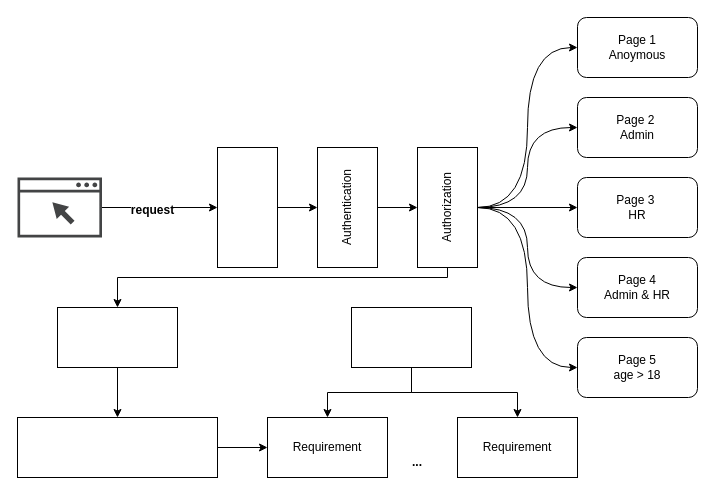
Some shapes in this 715 by 495 pixel diagram are drawn without their labels. The centre of each missing label's shape, as x and y in pixels:
"IAuthorizationService" goes at (x=117, y=337).
"Policy" goes at (x=411, y=337).
"RequirementAuthorizationHandler" goes at (x=117, y=447).
"Routing" goes at (x=247, y=207).
